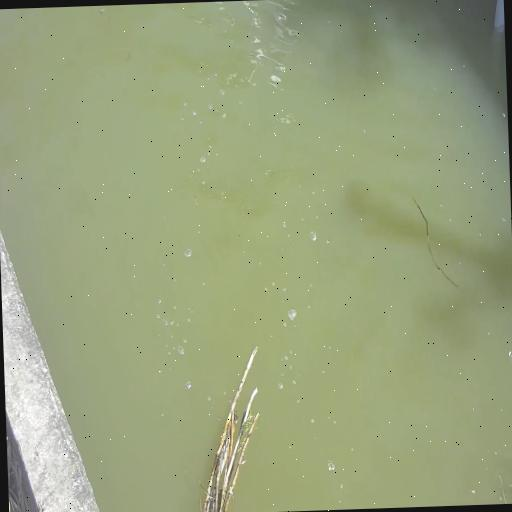twig: (177, 336, 274, 512)
